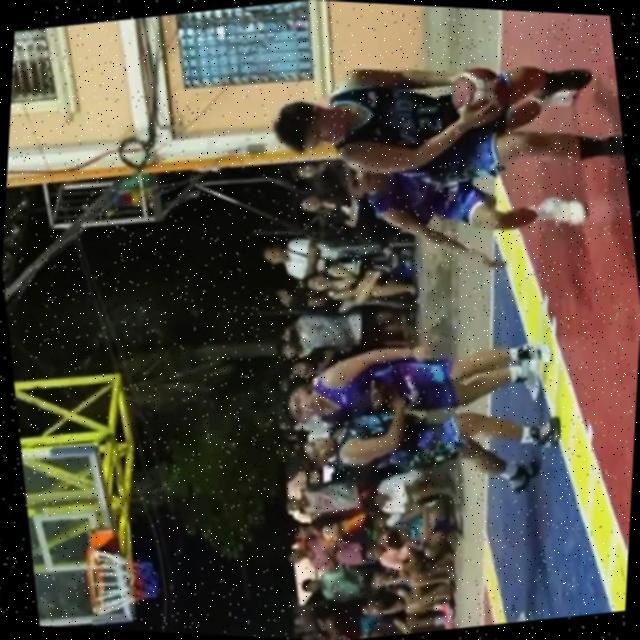ball: (434, 52, 526, 134)
hoop: (82, 547, 112, 615)
